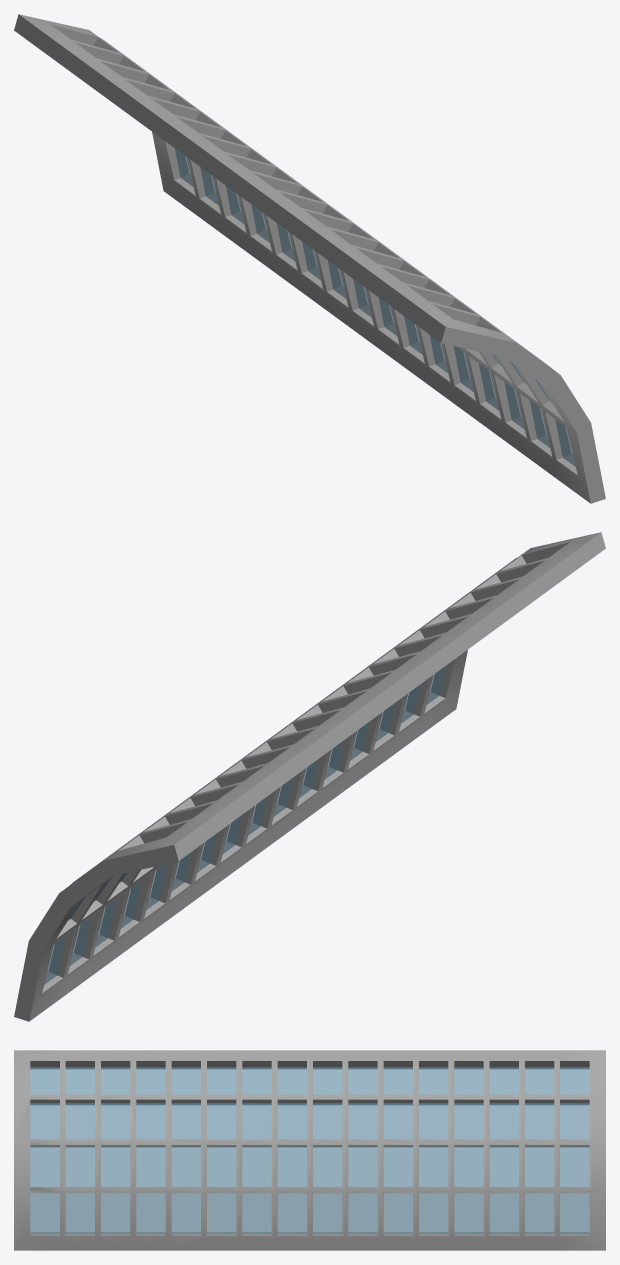
The model's file is SM_BigWindow.fbx.
3 views of the same model, one above another, from view 1: azimuth 30°, elevation 25°; view 2: azimuth 150°, elevation 25°; view 3: azimuth 270°, elevation 25° (orthographic). The views are drawn at different scales.
Parts seen in each view (by area): view 1: pCube42; view 2: pCube42; view 3: pCube42.
Part boxes in pixels (box(x1,y1,x2,y2)): pCube42: box(14, 14, 605, 503); pCube42: box(14, 532, 605, 1021); pCube42: box(14, 1050, 605, 1250).
Size of the model in its own units: 227 by 280 by 1020.
